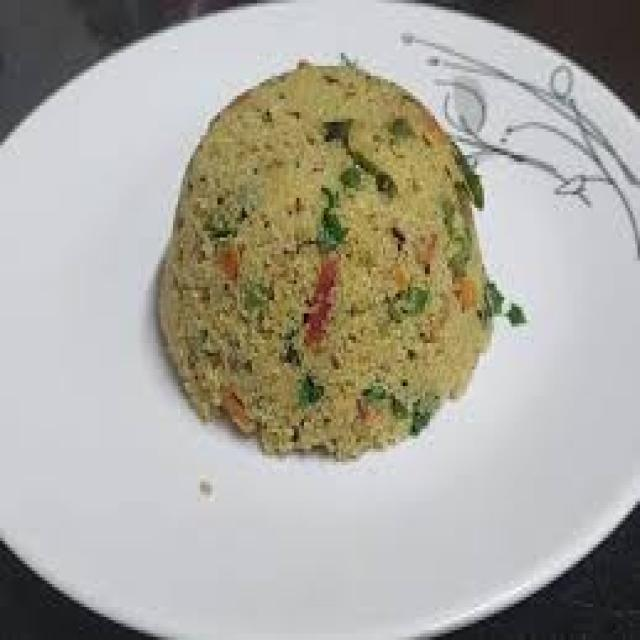UPMA: (156, 63, 489, 452)
